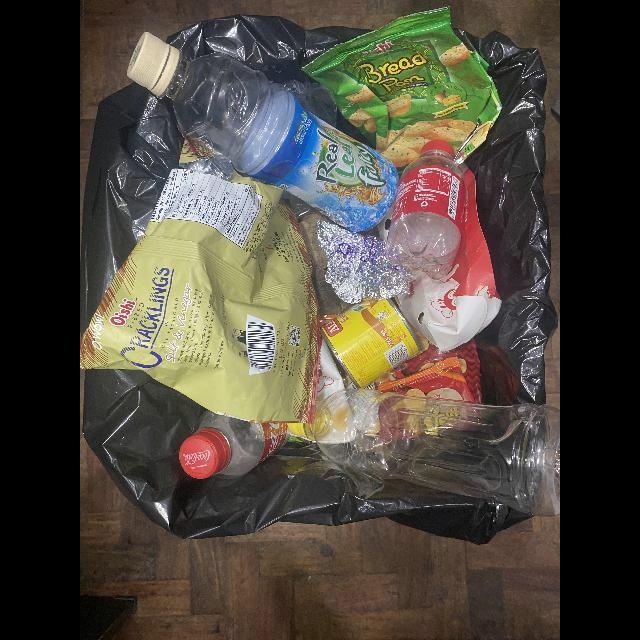aluminum: (320, 300, 421, 390), (319, 219, 415, 305)
cardboard: (394, 157, 503, 354)
food_wrapper: (80, 141, 324, 424), (301, 6, 503, 167), (367, 341, 481, 402)
plastic_bottle: (127, 31, 400, 233), (285, 386, 560, 516), (386, 139, 467, 279), (178, 409, 290, 479)
